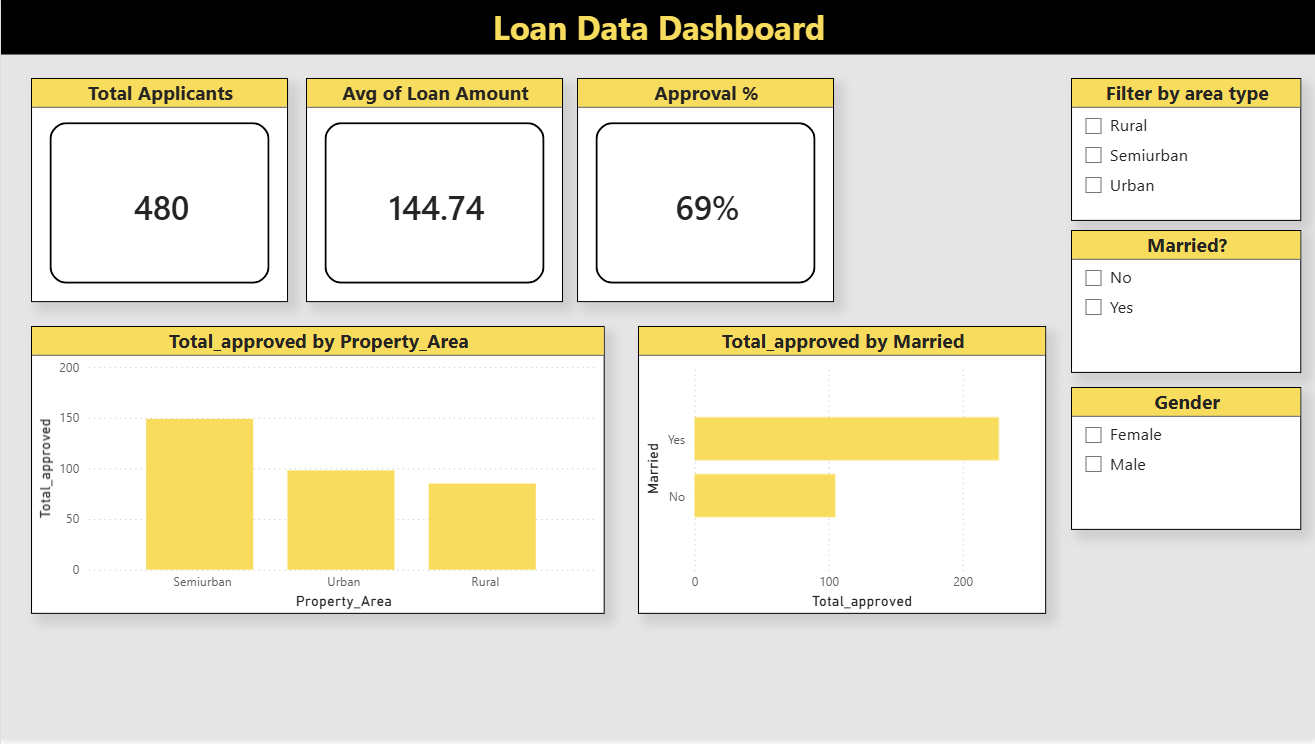

Layout of this report page (visuals, bound fields, positions):
{"tool":"powerbi","page":{"name":"Main","canvas":[1280,720],"ordinal":0},"visuals":[{"type":"cardVisual","title":"Total Applicants","fields":{"Data":["Loan_data.Total_Loan"]},"box":[28.9,76.7,250,217.8],"z":0},{"type":"cardVisual","title":"Approval %","fields":{"Data":["Loan_data.Apporoved_per%"]},"box":[560,76.7,250,217.8],"z":1000},{"type":"cardVisual","title":"Avg of Loan Amount","fields":{"Data":["Avg(Loan_data.LoanAmount)"]},"box":[296.7,76.7,250,217.8],"z":2000},{"type":"clusteredColumnChart","fields":{"Category":["Loan_data.Property_Area"],"Y":["Loan_data.Total_approved"]},"box":[28.9,317.8,557.8,280],"z":3000},{"type":"clusteredBarChart","fields":{"Category":["Loan_data.Married"],"Y":["Loan_data.Total_approved"]},"box":[620,318,397,280],"z":4000},{"type":"textbox","box":[0,0,1280,54.4],"z":5000},{"type":"slicer","title":"Filter by area type","fields":{"Values":["Loan_data.Property_Area"]},"box":[1041,77,224,139],"z":6000},{"type":"slicer","title":"Married?","fields":{"Values":["Loan_data.Married"]},"box":[1041,225,224,139],"z":7000},{"type":"slicer","title":"Gender","fields":{"Values":["Loan_data.Gender"]},"box":[1041,377,224,139],"z":8000}]}

Visuals, with their boxes in screenshot pixels (x1, y1, x2, y2), scaled from the page's 1280x720 canvas onto the 1315x744 screenshot:
"Total Applicants" cardVisual: box(30, 79, 287, 304)
"Approval %" cardVisual: box(575, 79, 832, 304)
"Avg of Loan Amount" cardVisual: box(305, 79, 562, 304)
clusteredColumnChart - Loan_data.Property_Area x Loan_data.Total_approved: box(30, 328, 603, 618)
clusteredBarChart - Loan_data.Married x Loan_data.Total_approved: box(637, 329, 1045, 618)
textbox: box(0, 0, 1314, 56)
"Filter by area type" slicer: box(1069, 80, 1300, 223)
"Married?" slicer: box(1069, 233, 1300, 376)
"Gender" slicer: box(1069, 390, 1300, 533)
